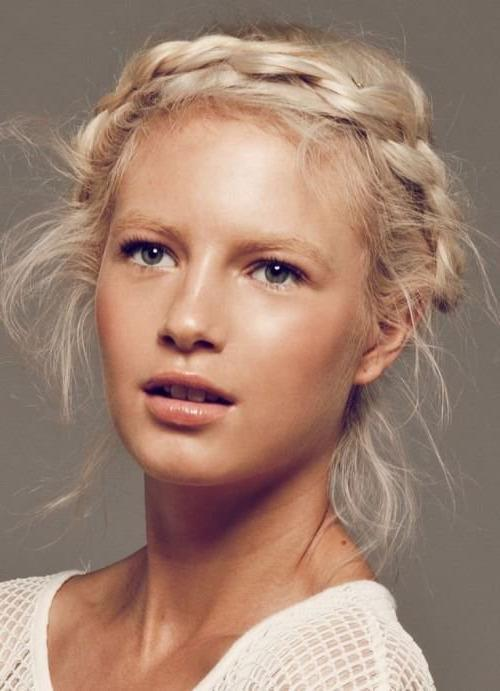Sober: (116, 140, 345, 458)
